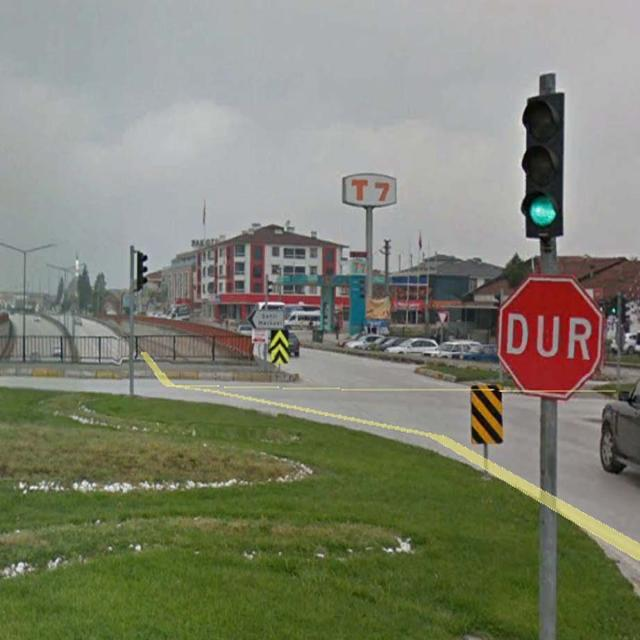dur: (496, 274, 602, 402)
yesil: (526, 95, 564, 236)
